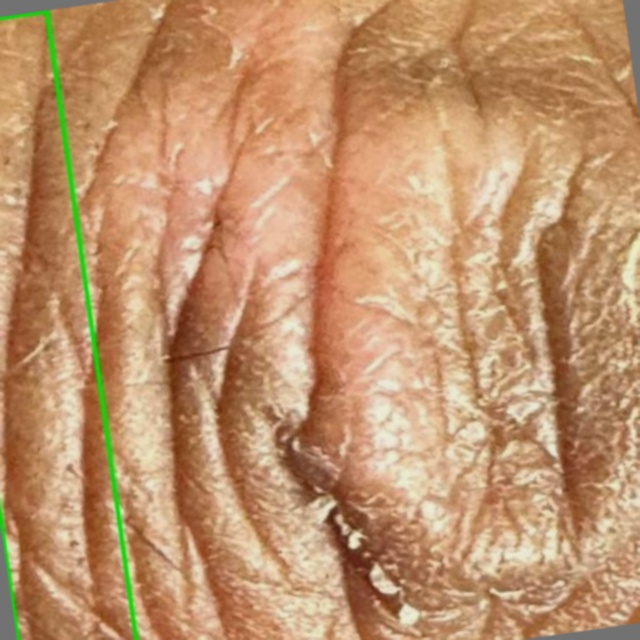Contact Dermatitis: (0, 11, 135, 639)
